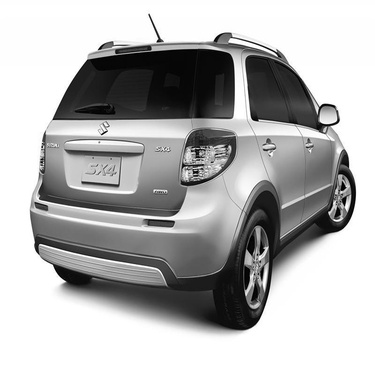car: (27, 30, 363, 331)
